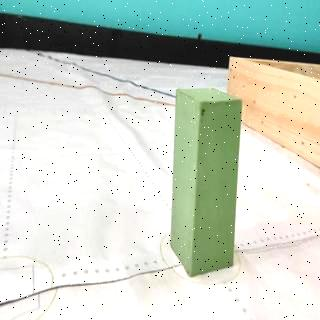greenbox: (170, 87, 243, 278)
